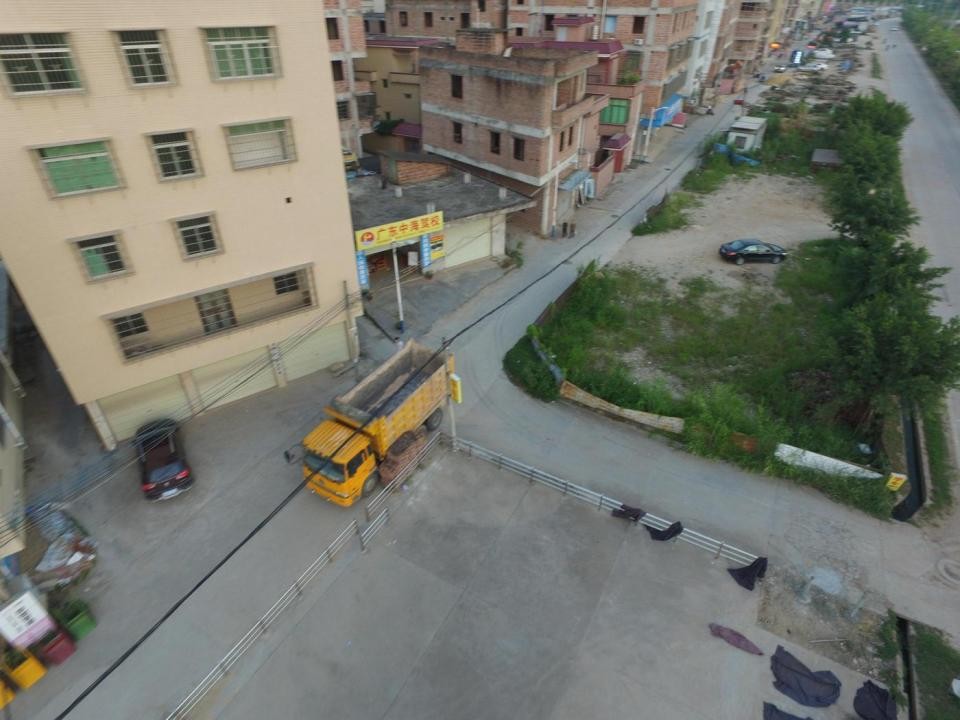car: (134, 418, 194, 502), (720, 239, 785, 265), (798, 63, 822, 73), (809, 61, 828, 70), (812, 47, 834, 54), (775, 64, 787, 72), (890, 26, 898, 31), (873, 20, 880, 24)
truck: (284, 338, 460, 508)
